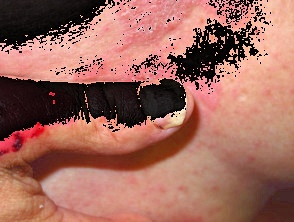Nail_psoriasis: (0, 75, 77, 158), (133, 75, 194, 135)
